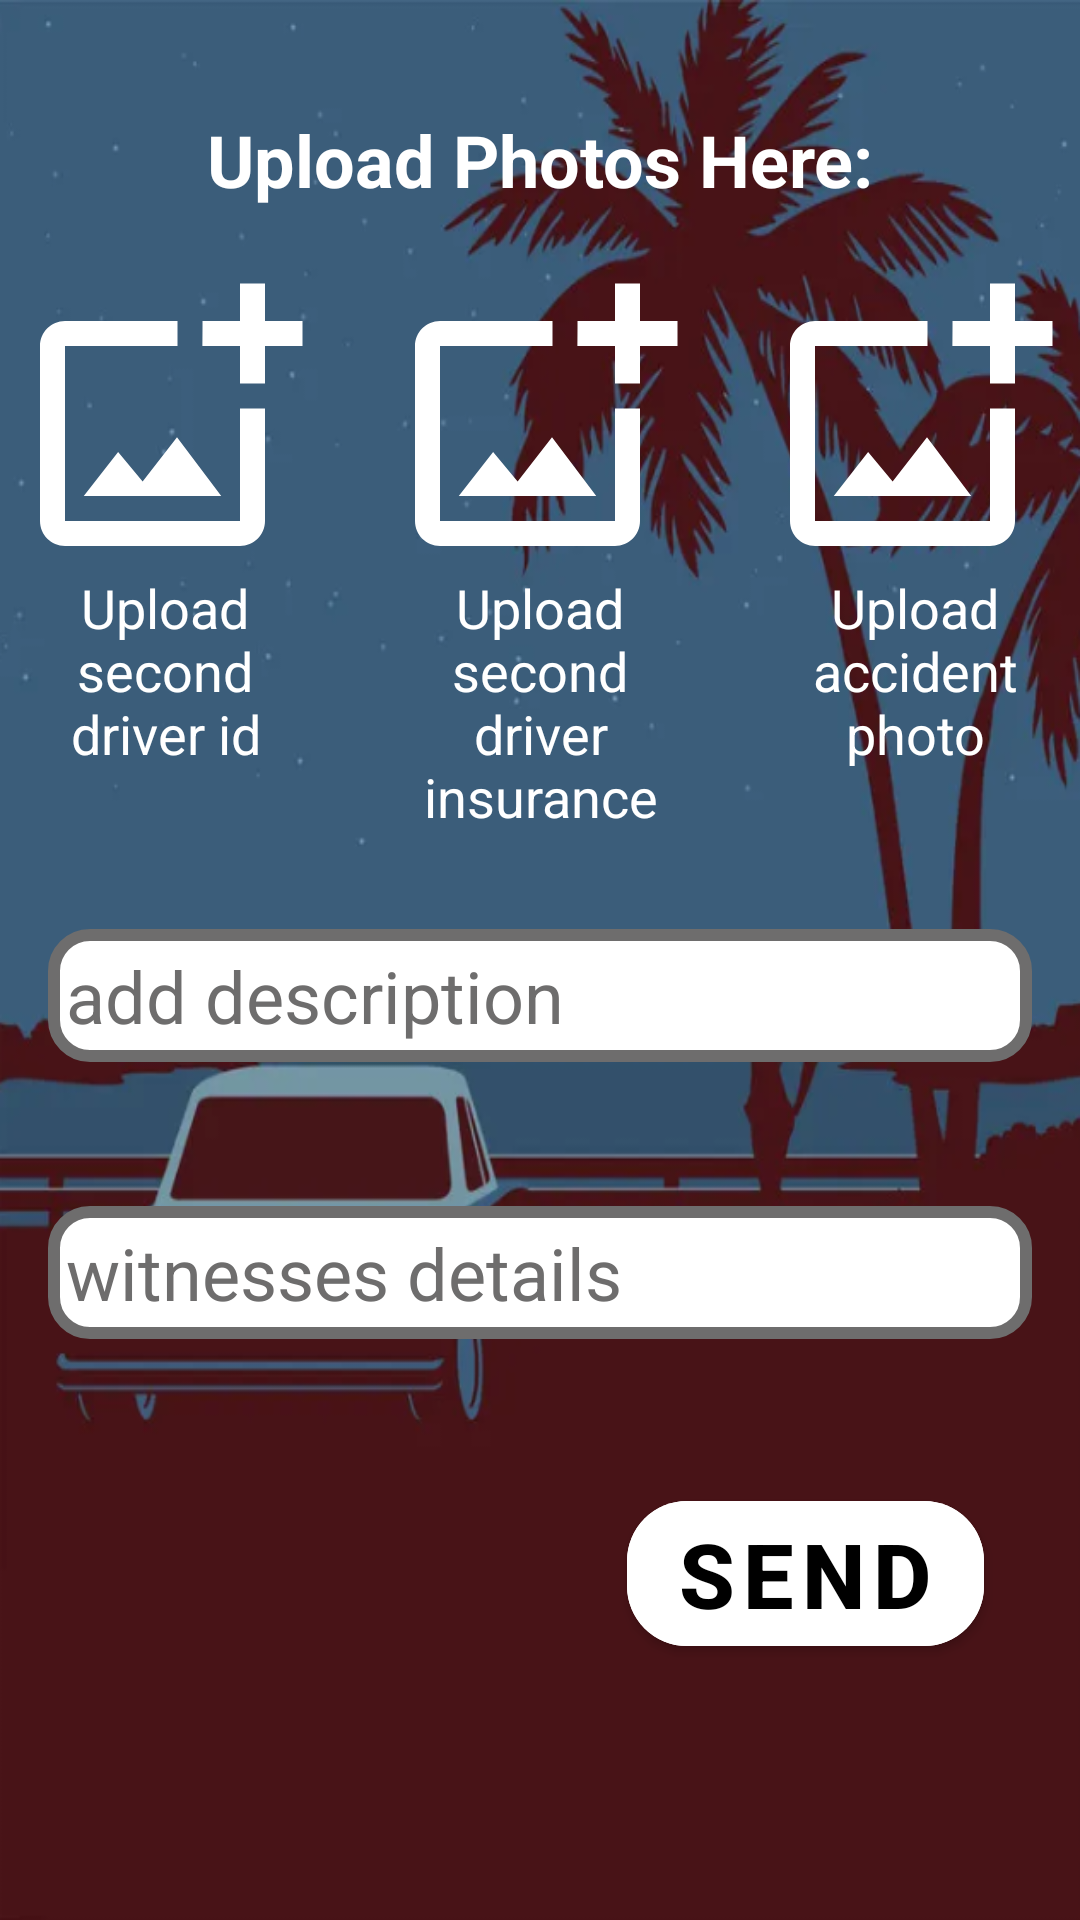

Named icons in this screenshot (1080 × 1920) and their centers, (x,y):
add photo: (547,421), (915,421), (161,414)
